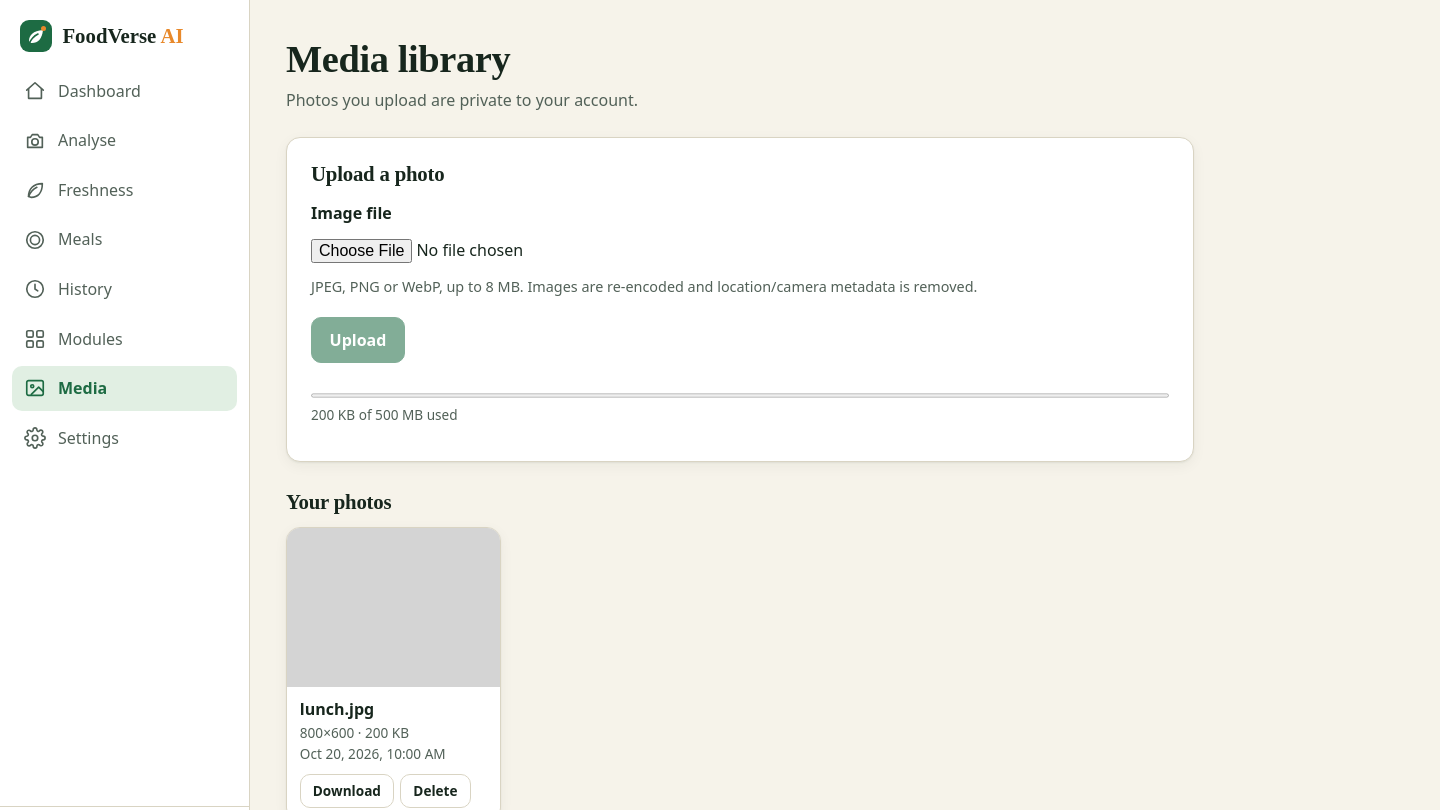
Test case: media library › asks for confirmation before deleting, and cancelling deletes nothing
Click the button with aria-label "Delete lunch.jpg": (435,791) 400,774 -> 470,808
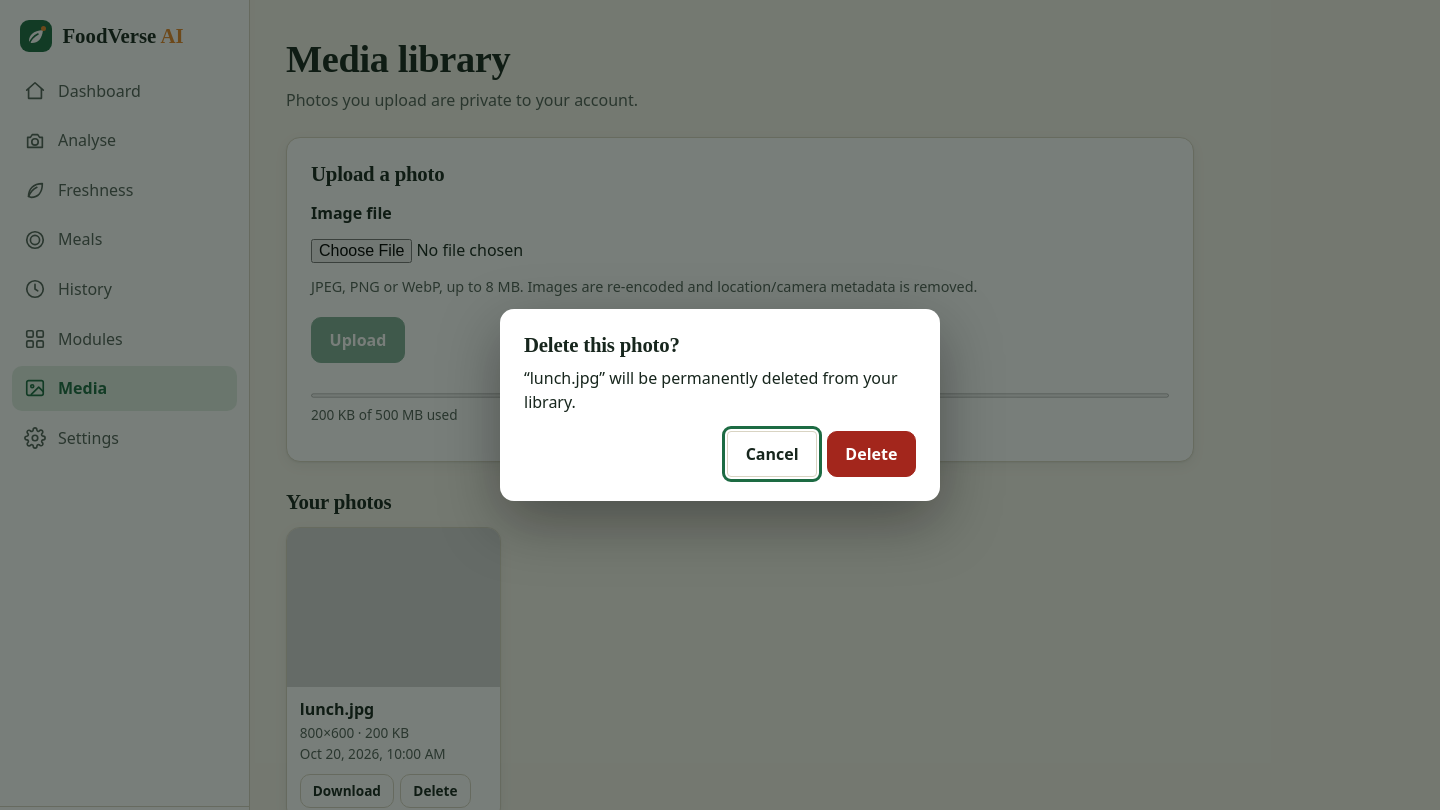
Click the button "Cancel": (772,454) 727,431 -> 817,477
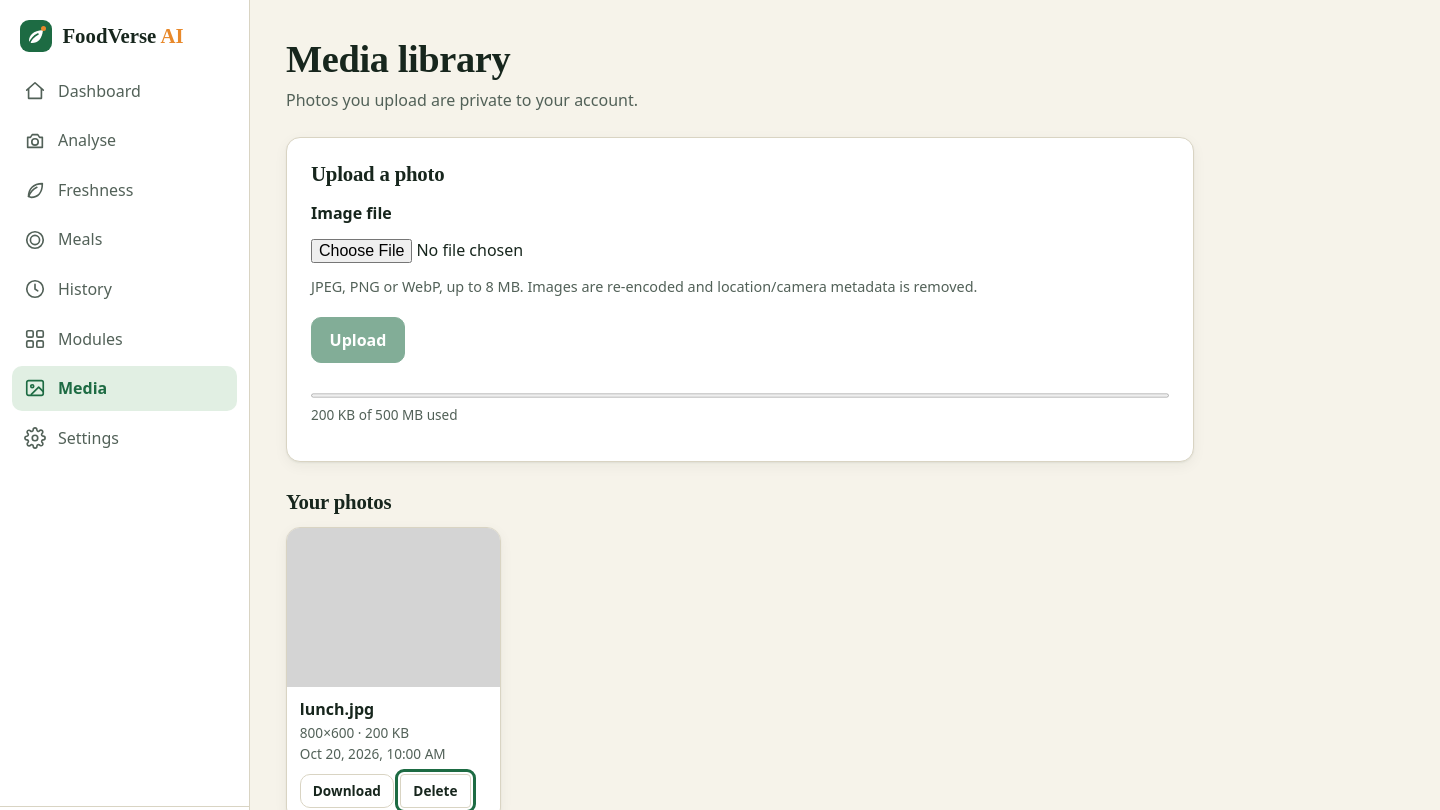
Expected: the dialog is gone
Click the button with aria-label "Delete lunch.jpg": (435,791) 400,774 -> 470,808
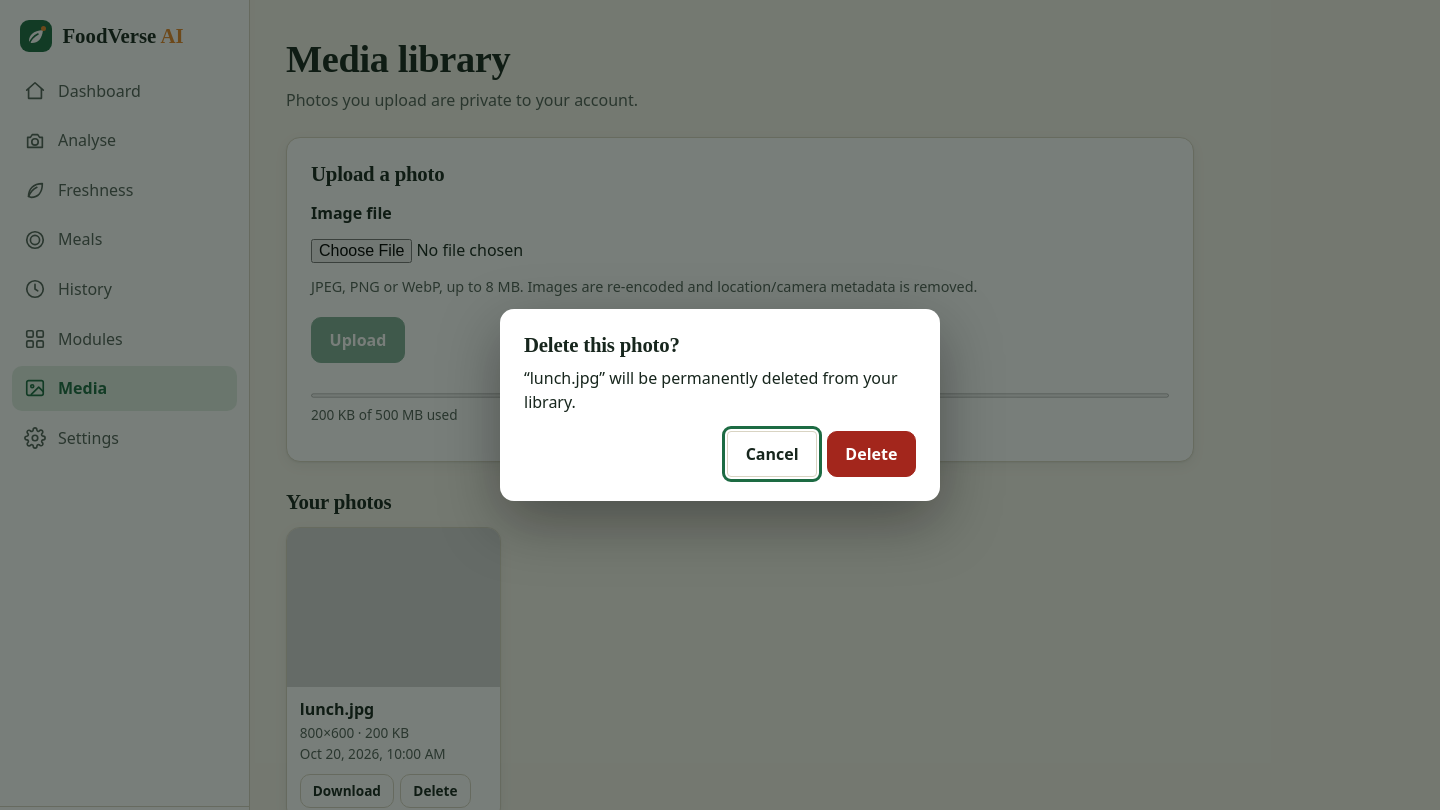
Click the button "Delete": (871,454) 827,431 -> 916,477
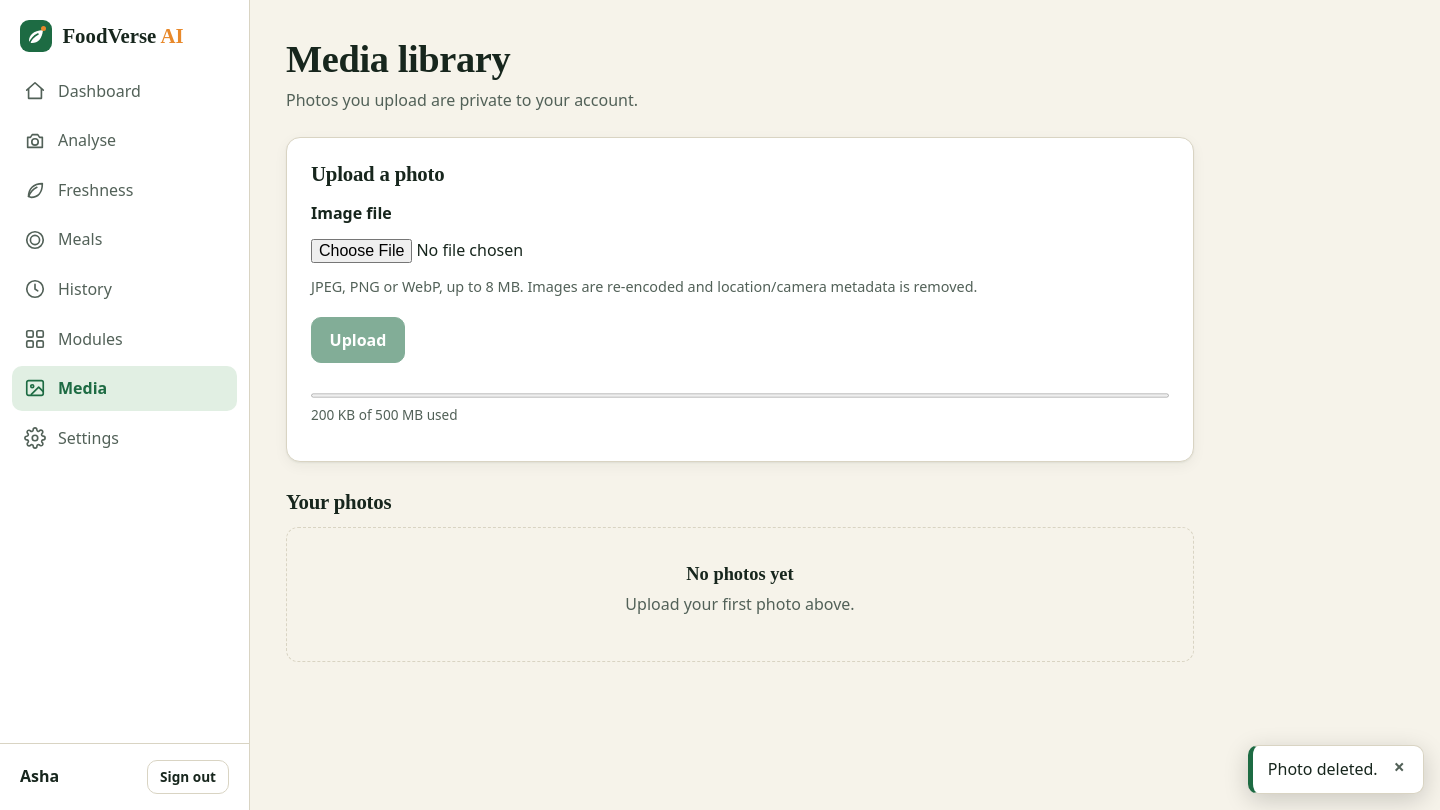
Expected: the text "Photo deleted." is shown, 1268,757 -> 1378,782
Expected: the text "No photos yet" is shown, 686,564 -> 794,584
